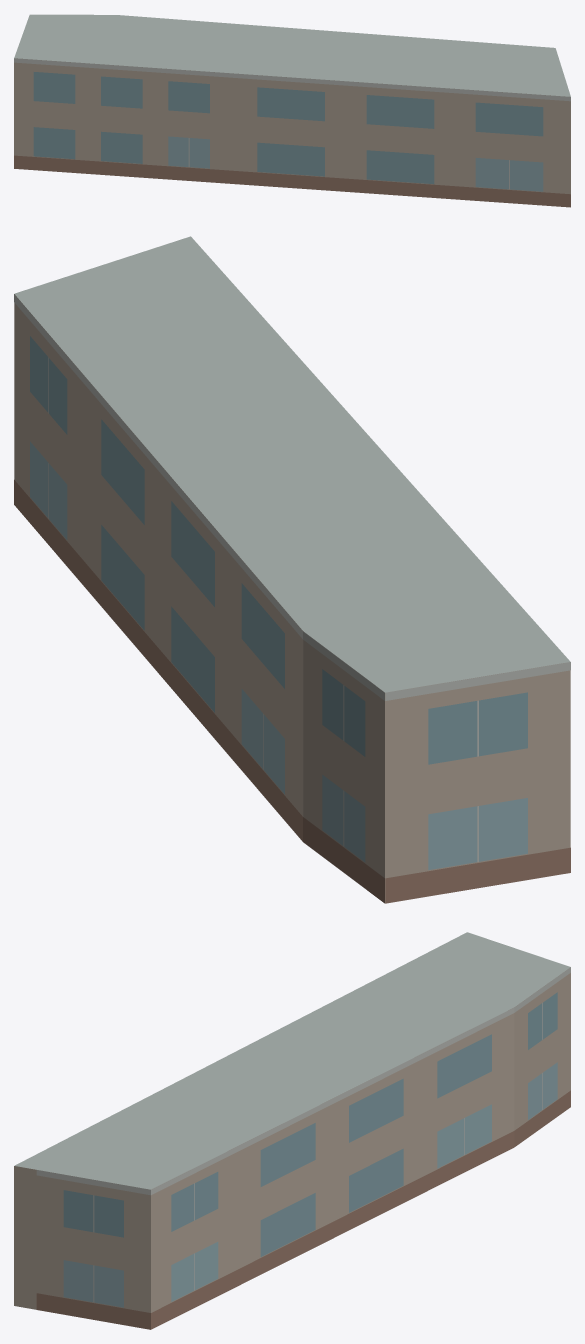
Rendered from survey-upis-32735837.glb.
3 renders of one model, top to bottom at view 1: azimuth 30°, elevation 25°; view 2: azimuth 150°, elevation 25°; view 3: azimuth 270°, elevation 25°, orthographic. The views are drawn at different scales.
Parts seen in each view (by area): view 1: survey-upis-32735837.tmp; view 2: survey-upis-32735837.tmp; view 3: survey-upis-32735837.tmp.
Boxes of the visible parts, left/top/right/bottom form: survey-upis-32735837.tmp: left=14, top=14, right=570, bottom=207; survey-upis-32735837.tmp: left=14, top=236, right=570, bottom=903; survey-upis-32735837.tmp: left=14, top=932, right=570, bottom=1329.
Bounding box in the file's own units: 24.07 × 6.1 × 21.98.
